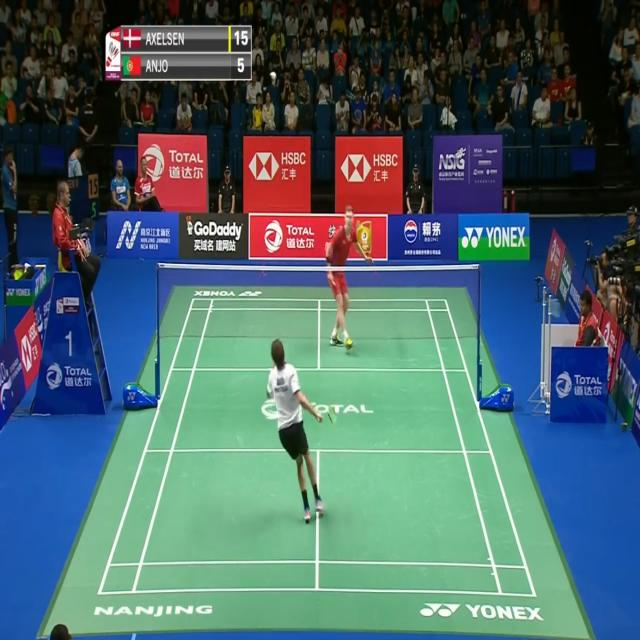Player1: (262, 338, 338, 526)
Player2: (322, 201, 378, 363)
